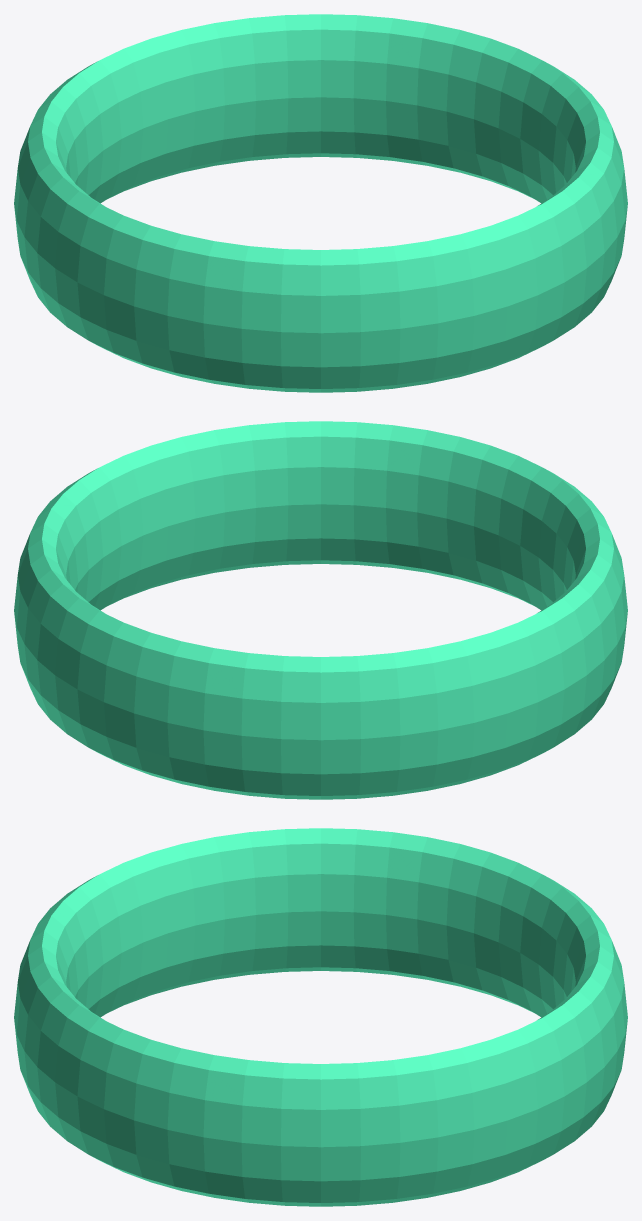
File: surround_cyl_turquoise.gltf
The picture shows the model from 3 angles, top to bottom: view 1: azimuth 30°, elevation 25°; view 2: azimuth 150°, elevation 25°; view 3: azimuth 270°, elevation 25°; orthographic projection.
Parts seen in each view (by area): view 1: Torus; view 2: Torus; view 3: Torus.
Boxes of the visible parts, box(x1,y1,x2,y2) form: Torus: box(14, 14, 627, 392); Torus: box(14, 421, 627, 799); Torus: box(14, 828, 627, 1206).
Size of the model in its own units: 6.6 by 1.69 by 6.6.
